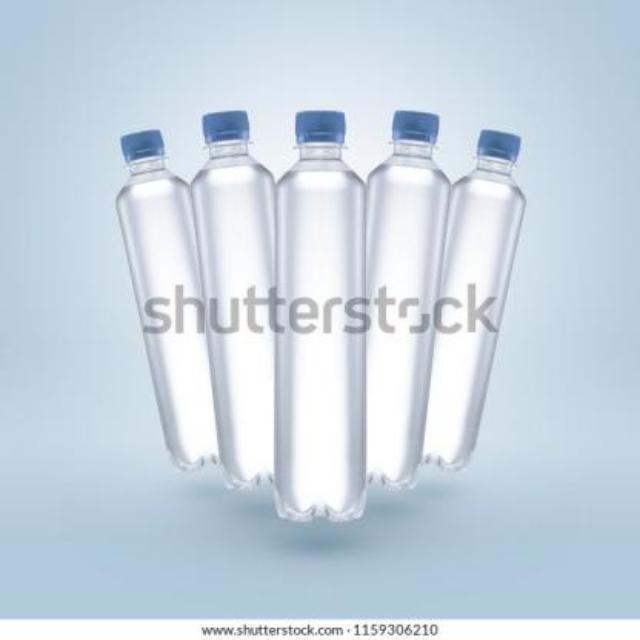plastic: (330, 97, 474, 500), (256, 99, 388, 535), (178, 101, 316, 501), (103, 116, 253, 478), (407, 118, 533, 486)
